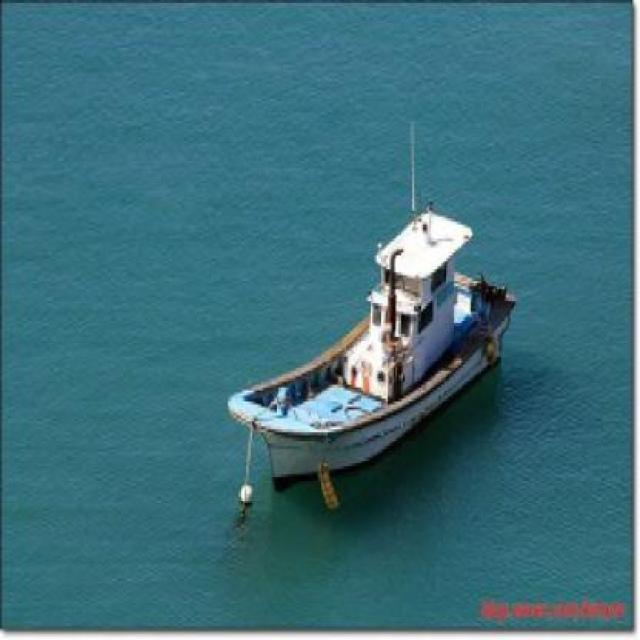fish-b: (227, 195, 523, 529)
